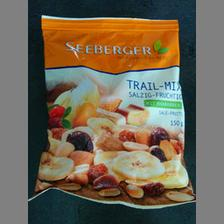Nuss: (32, 12, 194, 210)
